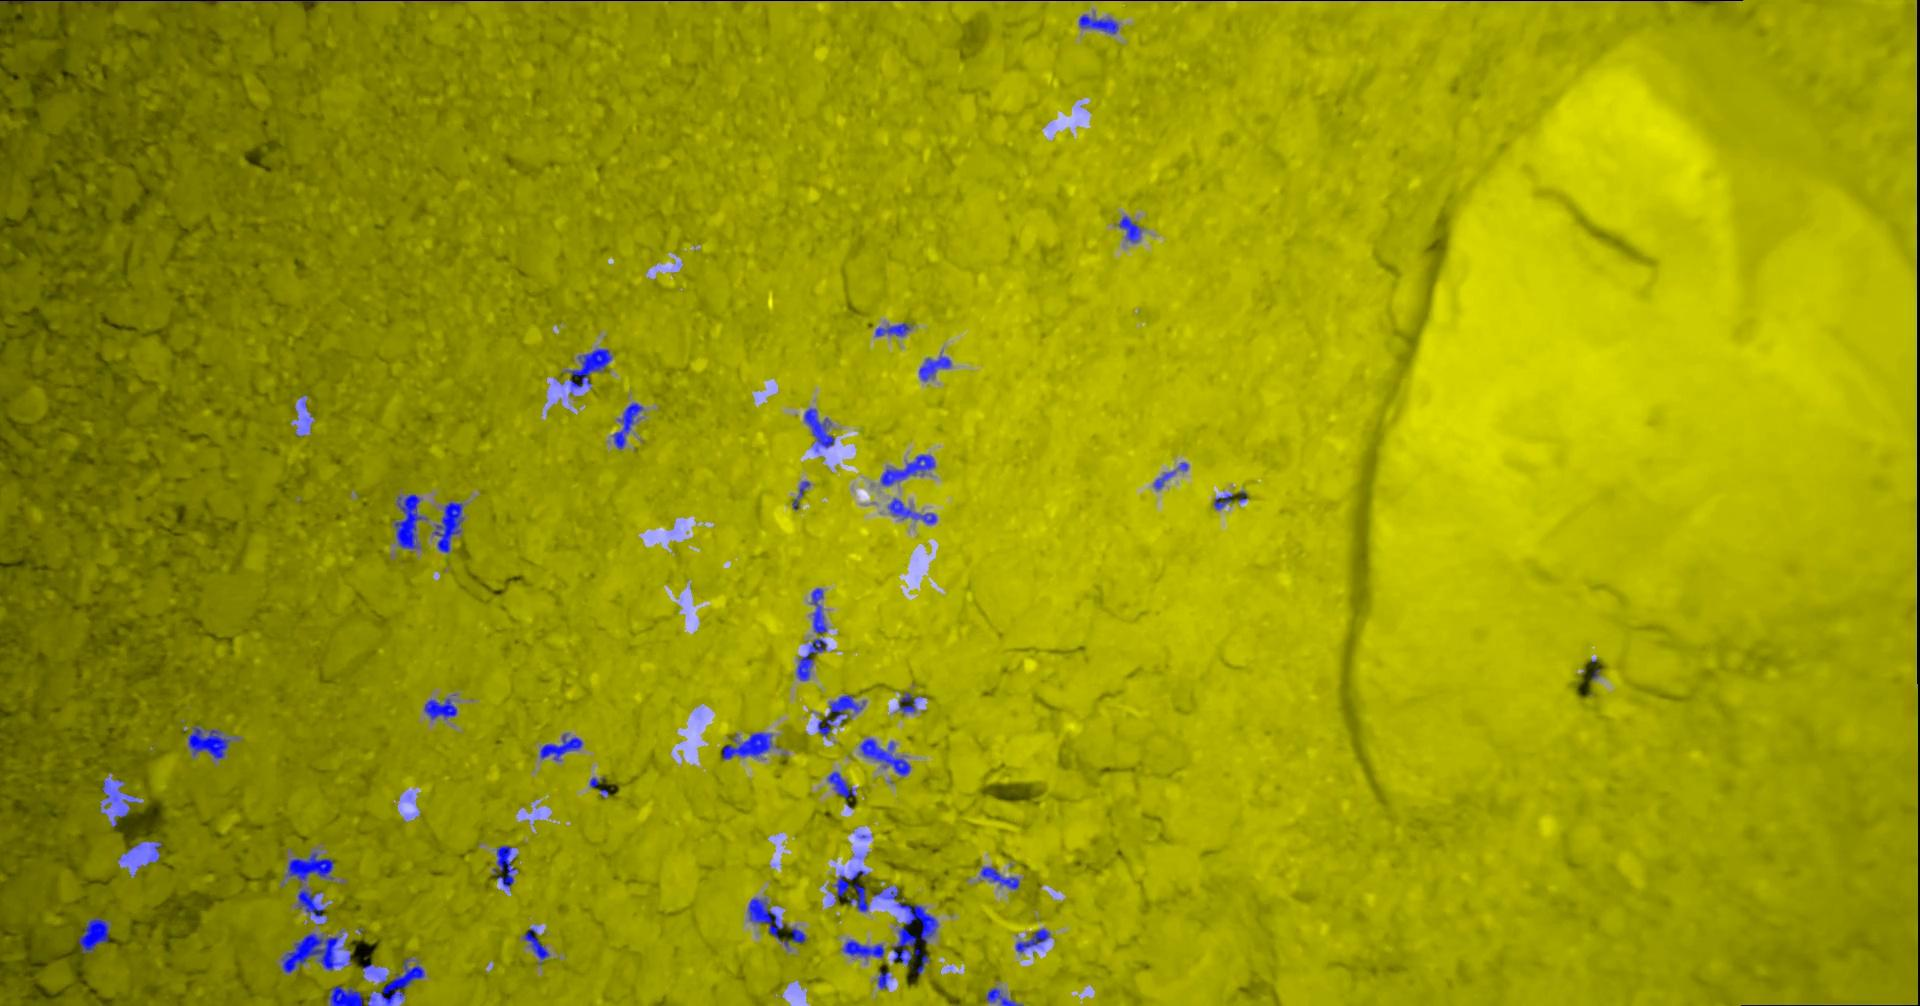ant: (377, 956, 425, 1005), (565, 348, 613, 392), (819, 695, 867, 735), (861, 738, 912, 775), (396, 494, 429, 547), (883, 453, 936, 485), (749, 897, 789, 939), (434, 500, 463, 553), (189, 727, 232, 760), (615, 401, 644, 448), (288, 851, 335, 880), (836, 870, 869, 911), (889, 497, 938, 523), (724, 732, 773, 758), (797, 638, 828, 680), (806, 408, 836, 450), (494, 845, 519, 890), (541, 733, 584, 760), (79, 917, 110, 953), (329, 984, 377, 1005), (524, 929, 550, 964), (298, 887, 326, 917), (982, 866, 1021, 888), (919, 356, 952, 381), (1017, 929, 1051, 951), (1079, 14, 1120, 33), (829, 771, 857, 798), (844, 939, 885, 956), (813, 588, 828, 633), (425, 699, 458, 719), (988, 987, 1023, 1005), (1120, 216, 1142, 243), (794, 481, 811, 509), (785, 927, 808, 949), (877, 323, 912, 337), (1156, 470, 1176, 489), (900, 692, 919, 713), (103, 779, 119, 801), (149, 841, 164, 864), (874, 887, 900, 899), (1215, 494, 1236, 509), (879, 970, 890, 989), (23, 0, 121, 1), (157, 0, 221, 1)
